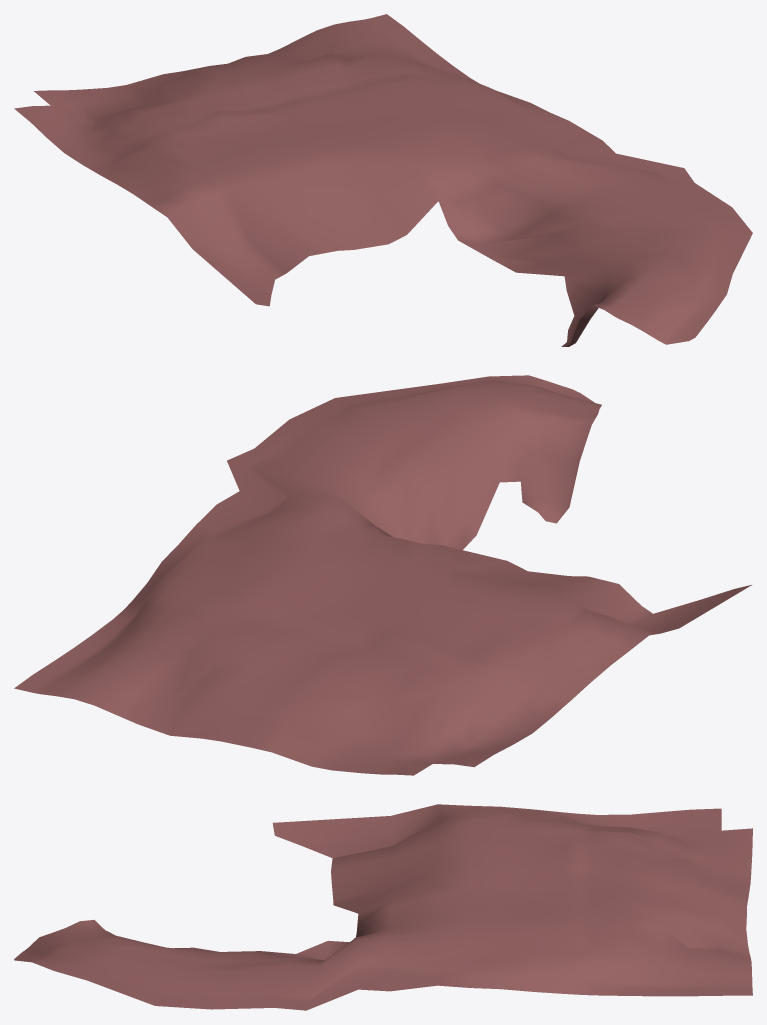
The model's file is isitthisone.fbx.
3 renders of one model, top to bottom at view 1: azimuth 30°, elevation 25°; view 2: azimuth 150°, elevation 25°; view 3: azimuth 270°, elevation 25°, orthographic. The views are drawn at different scales.
Parts seen in each view (by area): view 1: recent_ground_maybe; view 2: recent_ground_maybe; view 3: recent_ground_maybe.
Boxes of the visible parts, x1,y1,x2,y2 form: recent_ground_maybe: (14, 14, 752, 346); recent_ground_maybe: (14, 375, 751, 775); recent_ground_maybe: (14, 804, 752, 1010).
Size of the model in its own units: 282 by 55.27 by 440.
